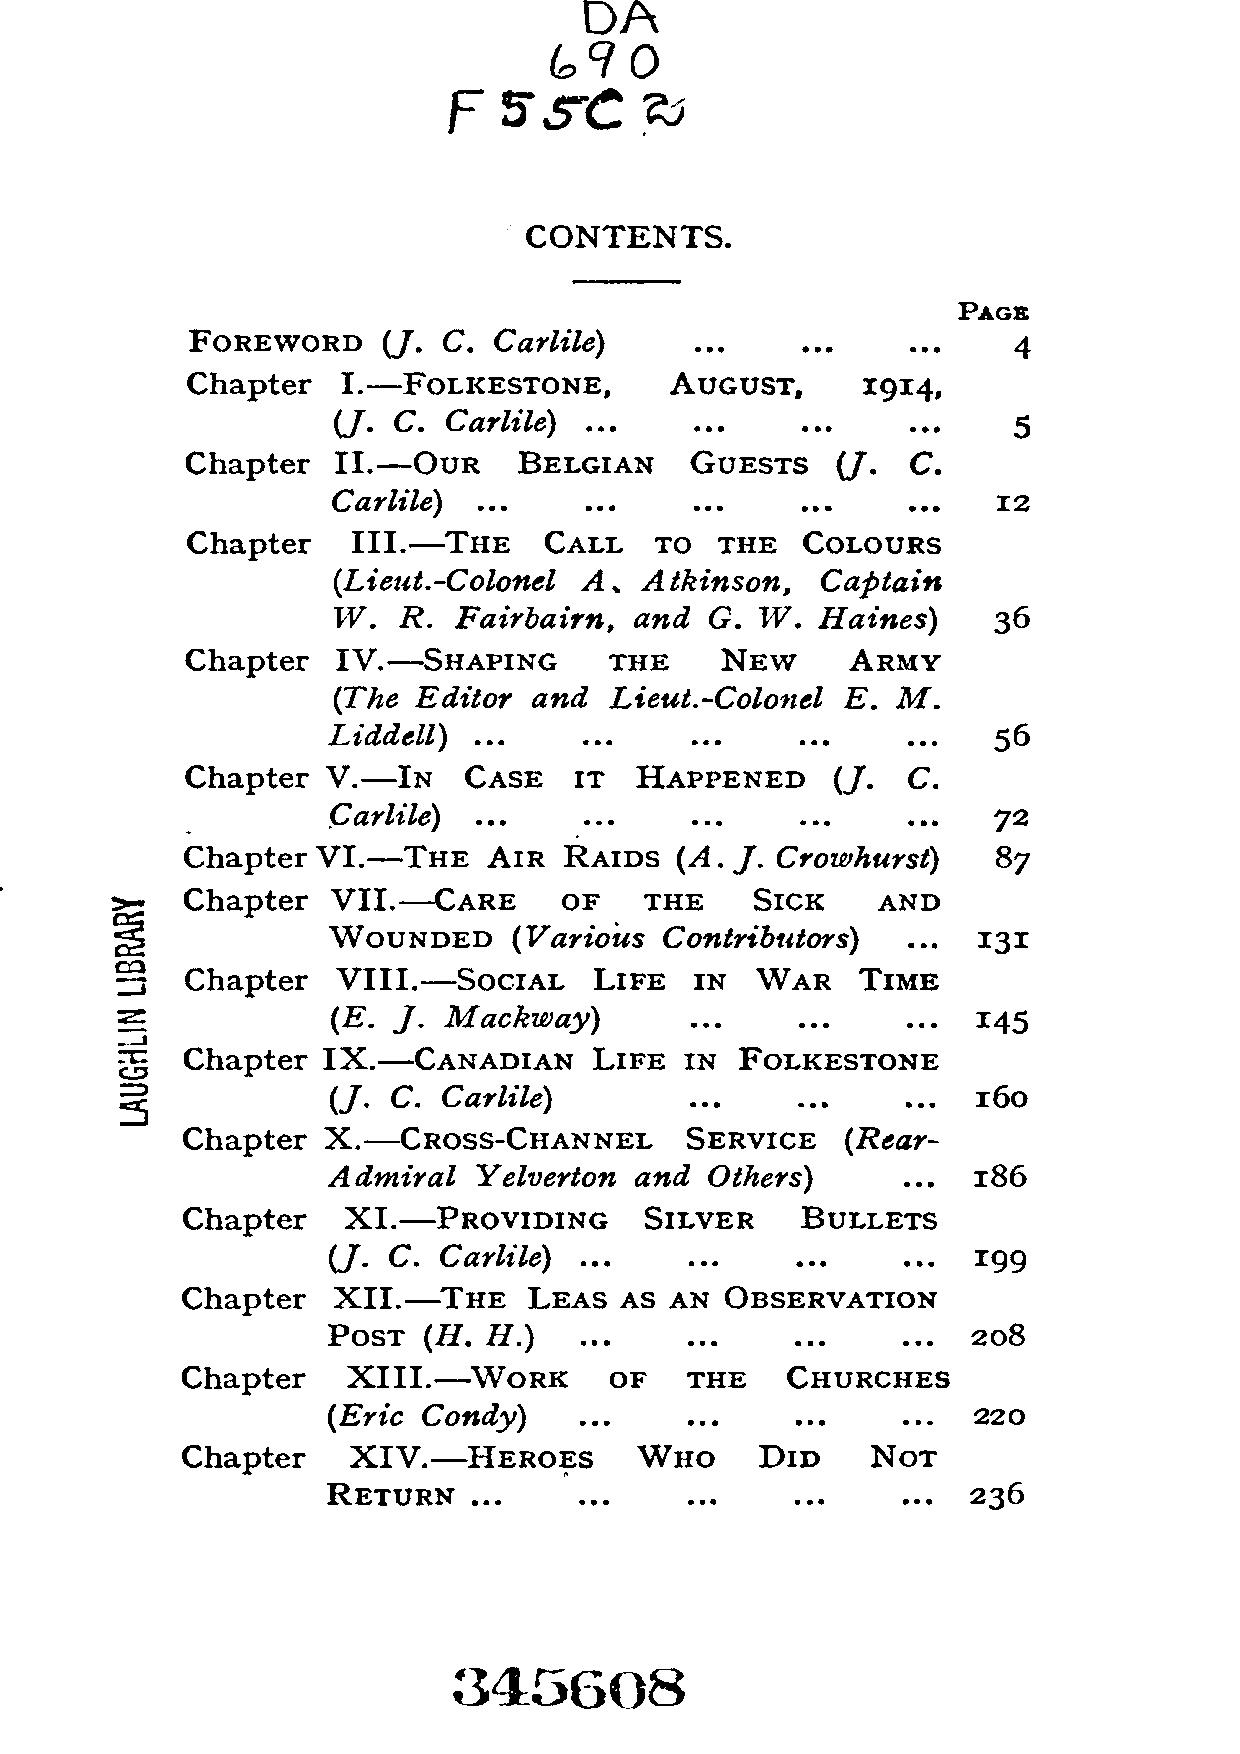TOC_chapter: (183, 525, 945, 636), (183, 641, 943, 752), (184, 760, 947, 836), (178, 1041, 942, 1118), (174, 1359, 950, 1435), (180, 1123, 943, 1197), (183, 368, 943, 442), (178, 1202, 942, 1275), (177, 962, 938, 1035), (178, 1282, 941, 1353), (180, 1440, 941, 1511), (178, 883, 947, 950), (183, 448, 943, 515), (184, 843, 947, 878), (184, 325, 609, 361)
TOC_pagenumber: (969, 1004, 1033, 1037), (964, 1478, 1028, 1511), (968, 1400, 1032, 1431), (974, 1080, 1031, 1114), (973, 1159, 1031, 1190), (972, 1243, 1029, 1274), (977, 925, 1029, 957), (968, 1321, 1029, 1346), (989, 718, 1032, 754), (993, 599, 1032, 637), (993, 839, 1031, 878), (988, 801, 1033, 831), (993, 488, 1035, 519), (1004, 331, 1037, 362), (1006, 409, 1033, 442)
chapter: (521, 213, 737, 254)
